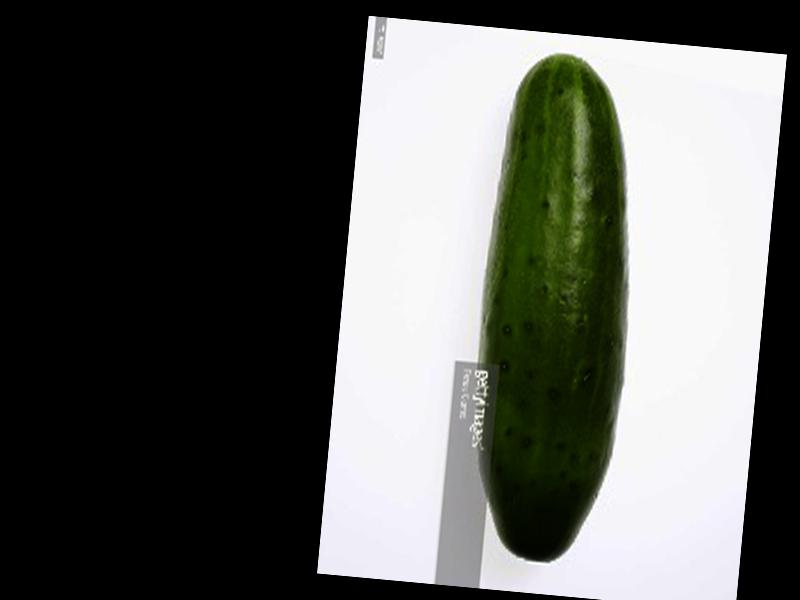Cucumber: (459, 46, 654, 573)
